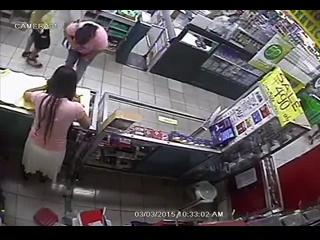Normal: (21, 65, 92, 191), (62, 20, 110, 84), (21, 10, 56, 68)
